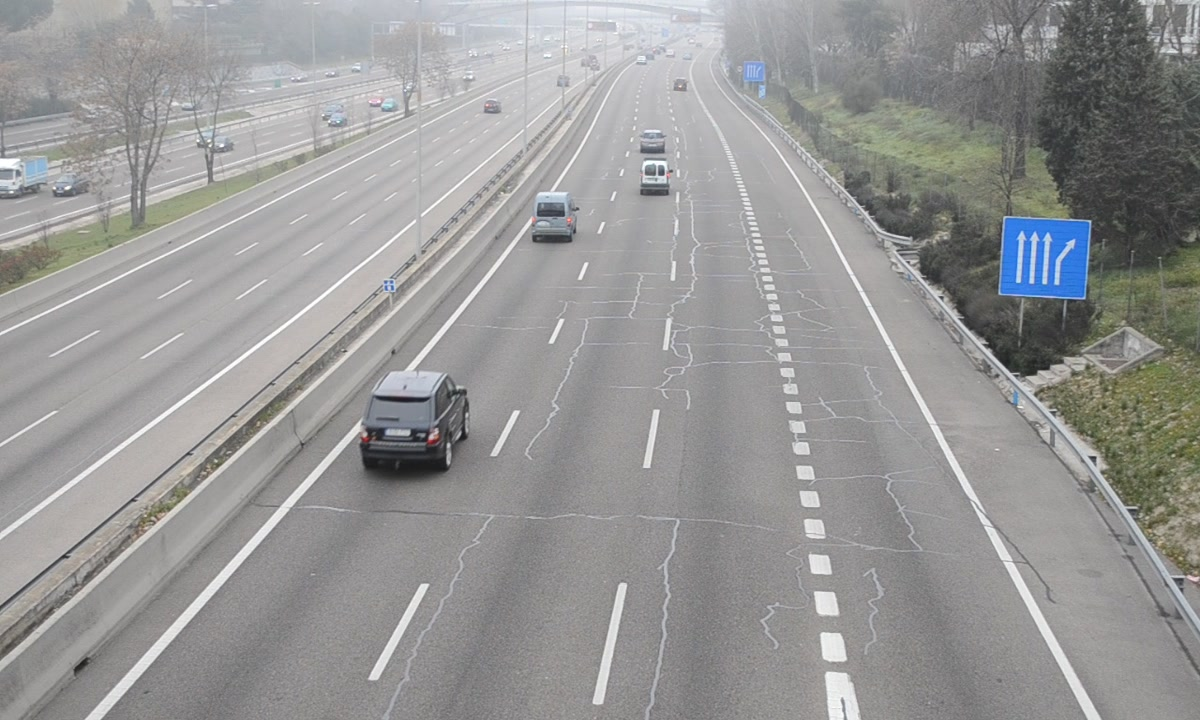car: (360, 370, 471, 467)
van: (532, 190, 575, 237), (639, 158, 670, 193)
